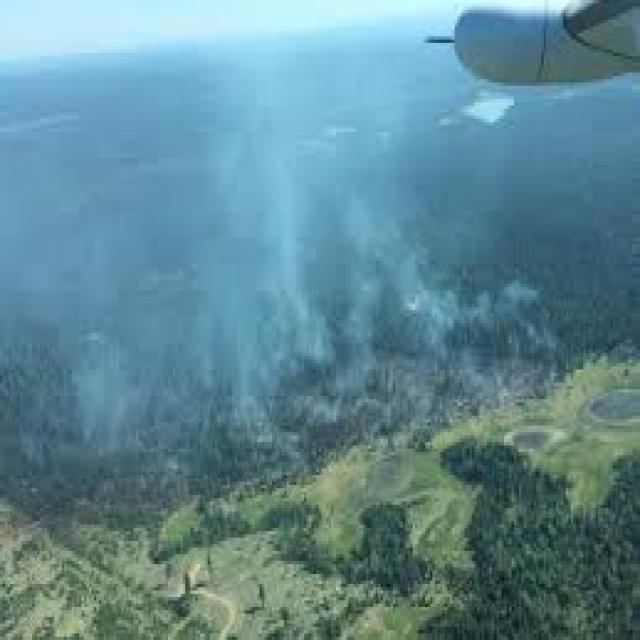Smoke: (322, 168, 566, 416), (132, 160, 320, 432), (0, 138, 133, 436)
